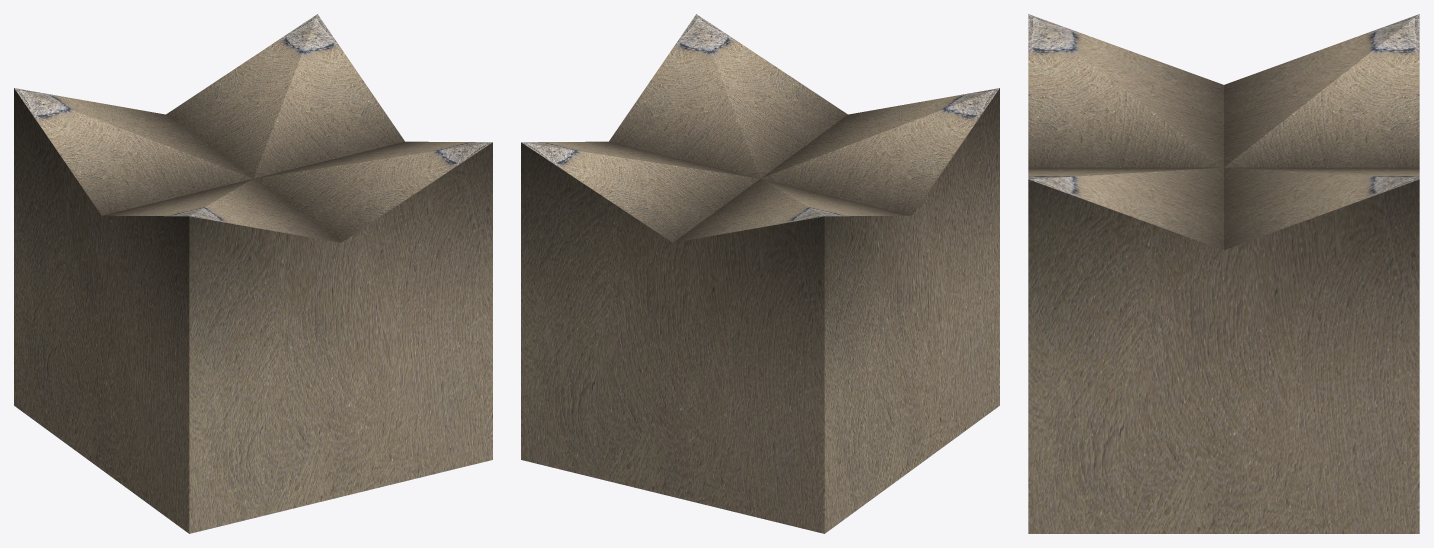
The model's file is BlockInclinedCross.fbx.
The picture shows the model from 3 angles, left to right: view 1: azimuth 30°, elevation 25°; view 2: azimuth 150°, elevation 25°; view 3: azimuth 270°, elevation 25°; orthographic projection. The views are drawn at different scales.
Parts seen in each view (by area): view 1: blockInclinedCross; view 2: blockInclinedCross; view 3: blockInclinedCross.
Part boxes in pixels (box(x1,y1,x2,y2)): blockInclinedCross: box(14, 14, 492, 533); blockInclinedCross: box(521, 14, 999, 533); blockInclinedCross: box(1028, 14, 1419, 533).
Bounding box in the file's own units: 100 × 100 × 100.
